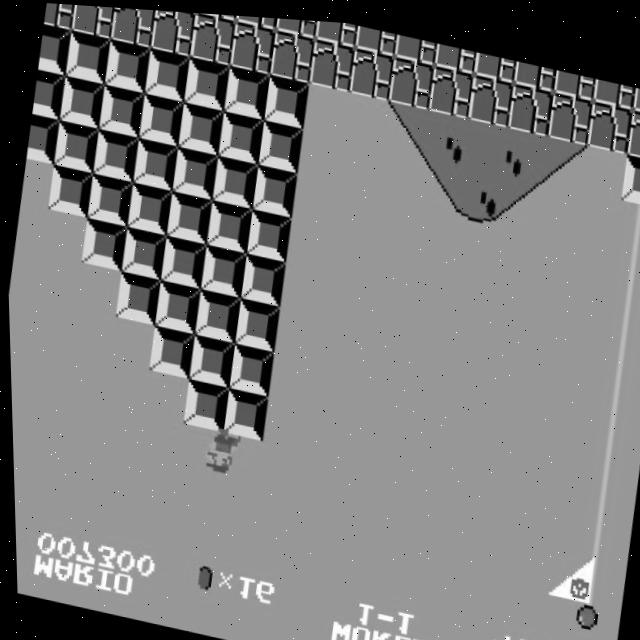11- little_mario: (193, 422, 244, 480)
17- undestructible_block: (307, 34, 357, 89), (545, 84, 595, 139), (426, 59, 476, 113), (228, 17, 277, 72), (347, 42, 396, 97), (466, 67, 515, 122), (506, 75, 555, 130), (585, 92, 634, 147), (268, 26, 317, 80), (387, 51, 436, 105), (188, 10, 237, 63), (149, 8, 198, 55), (109, 6, 158, 46), (70, 4, 119, 38), (472, 45, 517, 77), (591, 70, 636, 102), (552, 62, 596, 94), (393, 29, 438, 60), (433, 37, 478, 68), (512, 54, 557, 85), (354, 21, 398, 52), (314, 16, 359, 43), (43, 2, 79, 30), (274, 14, 318, 35), (625, 101, 640, 154), (235, 12, 279, 27), (195, 10, 239, 19), (631, 79, 640, 109)
7- goal_pole: (564, 548, 613, 603), (582, 414, 631, 469), (588, 369, 637, 424), (570, 504, 619, 558), (576, 460, 625, 513), (594, 325, 640, 379), (557, 593, 606, 640), (600, 279, 640, 334), (606, 235, 640, 289), (612, 190, 640, 244)
9- hard_block: (136, 90, 186, 145), (142, 45, 192, 100), (191, 286, 241, 341), (203, 196, 253, 251), (255, 115, 305, 170), (84, 172, 134, 226), (185, 331, 235, 385), (197, 242, 247, 296), (261, 71, 311, 125), (45, 163, 94, 218), (57, 73, 106, 128), (103, 37, 152, 92), (146, 322, 195, 377), (164, 188, 213, 243), (182, 54, 231, 109), (222, 62, 271, 117), (231, 294, 280, 349), (243, 205, 292, 260), (78, 217, 128, 270), (249, 161, 299, 214), (51, 119, 100, 173), (63, 29, 112, 83), (97, 82, 146, 136), (112, 270, 161, 324), (118, 225, 167, 279), (124, 180, 173, 234), (152, 278, 201, 332), (158, 233, 207, 287), (170, 144, 219, 198), (176, 99, 225, 153), (179, 376, 228, 430), (210, 152, 259, 206), (216, 107, 265, 161), (225, 339, 274, 393), (237, 250, 286, 304), (91, 128, 140, 181), (131, 136, 180, 189), (219, 385, 268, 438), (31, 68, 67, 120), (37, 23, 73, 75), (24, 114, 60, 164), (618, 145, 640, 199)
